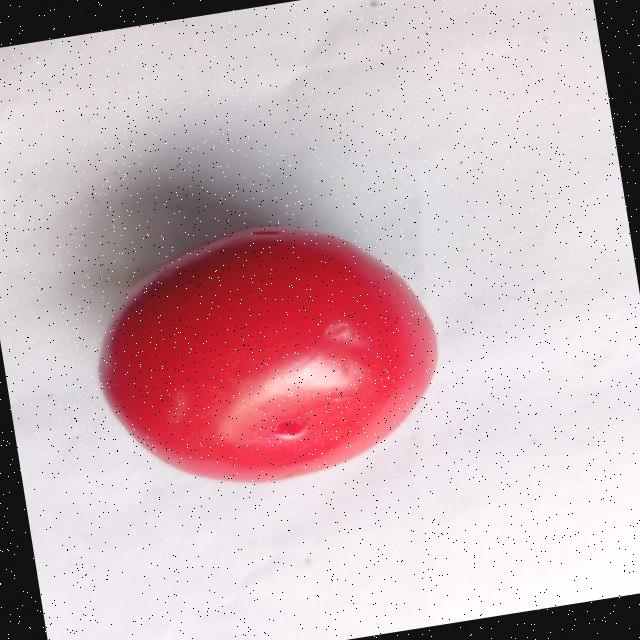Ripe: (68, 196, 457, 511)
